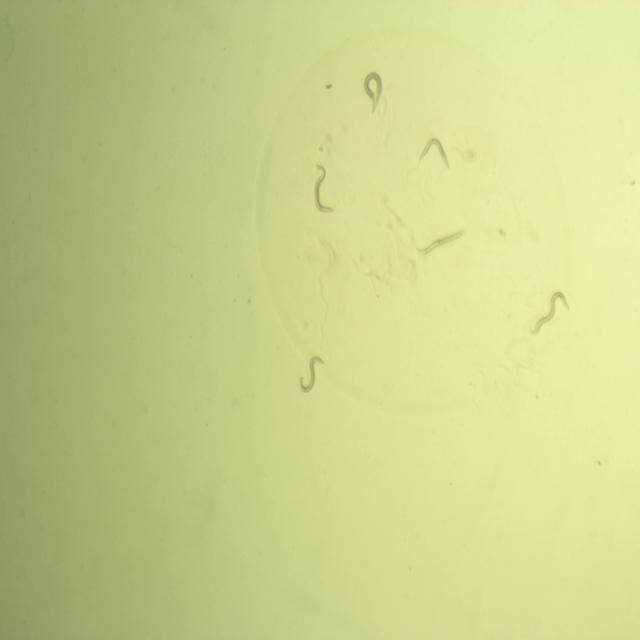worm: (412, 224, 470, 260), (532, 288, 571, 340), (412, 132, 455, 176), (294, 349, 329, 402), (310, 159, 338, 219), (360, 63, 385, 119)
